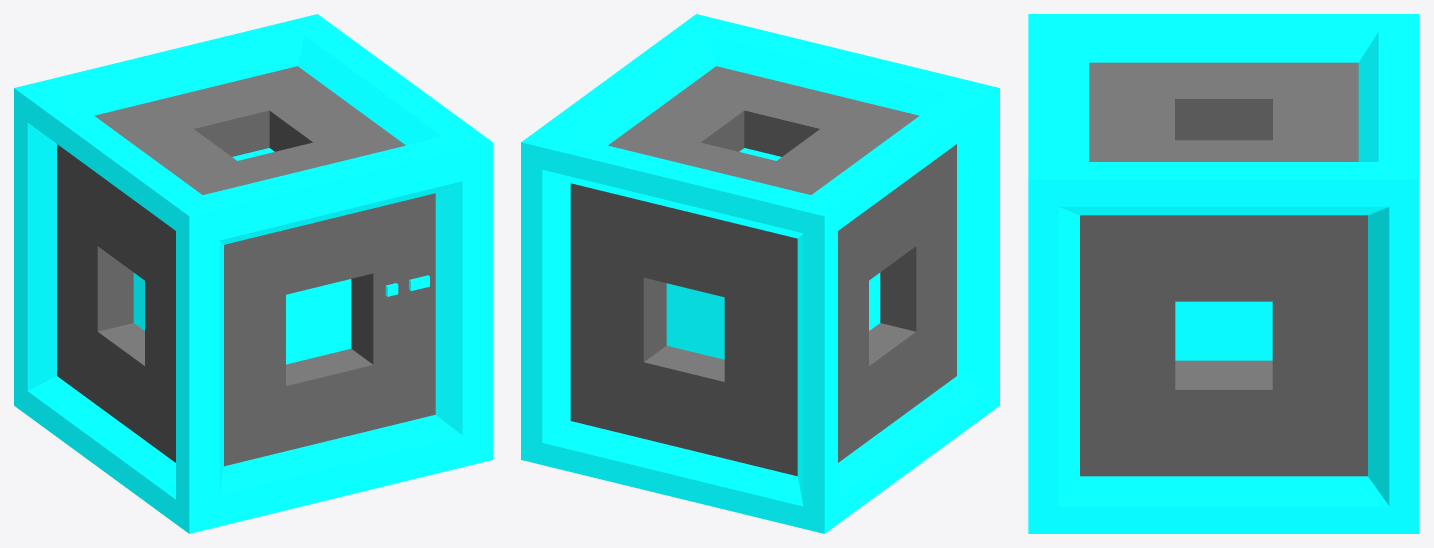
File: Item_Box_Futuristic.fbx
3 renders of one model, left to right at view 1: azimuth 30°, elevation 25°; view 2: azimuth 150°, elevation 25°; view 3: azimuth 270°, elevation 25°, orthographic. The views are drawn at different scales.
Visible parts, largest first — view 1: Item Box Futuristic; view 2: Item Box Futuristic; view 3: Item Box Futuristic.
Boxes of the visible parts, <box> form: Item Box Futuristic: <box>14,14,492,533</box>; Item Box Futuristic: <box>521,14,999,533</box>; Item Box Futuristic: <box>1028,14,1419,533</box>.
Size of the model in its own units: 200 by 200 by 200.
